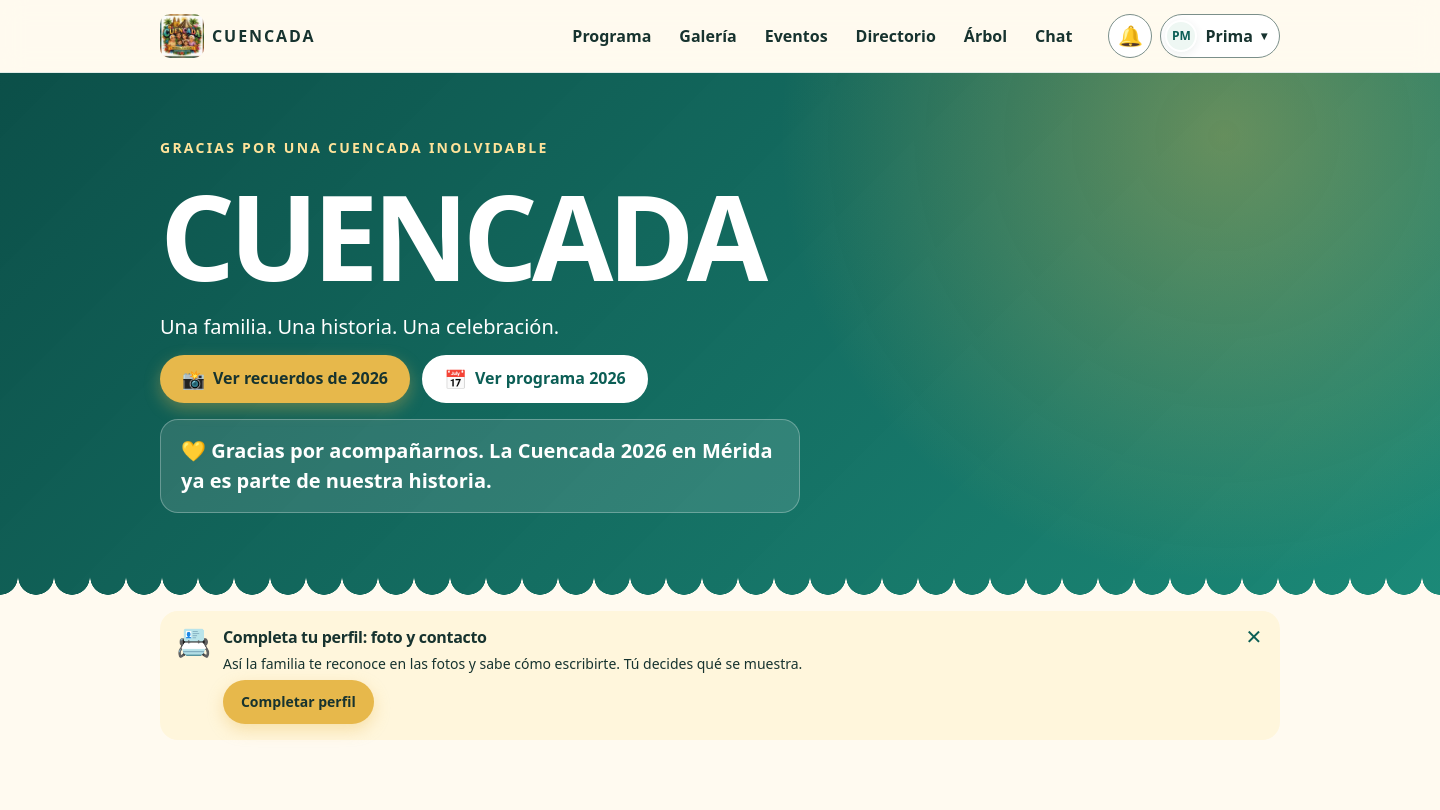
Test: AccountMenu › closes on Escape and gives focus back to the button
Click the button with aria-label "Mi cuenta". click: (1220, 36)
box: [1160,14,1280,58]
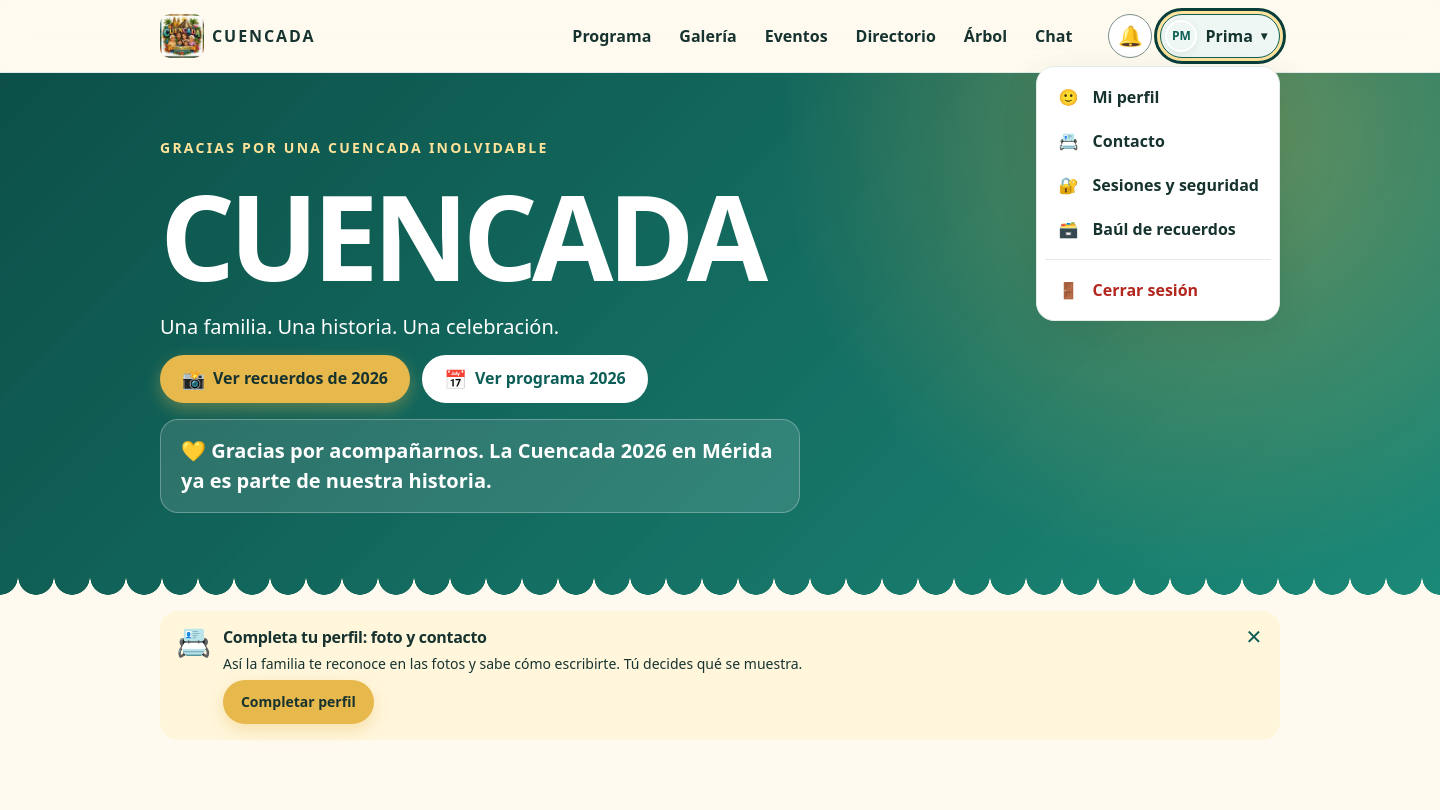
Press Tab
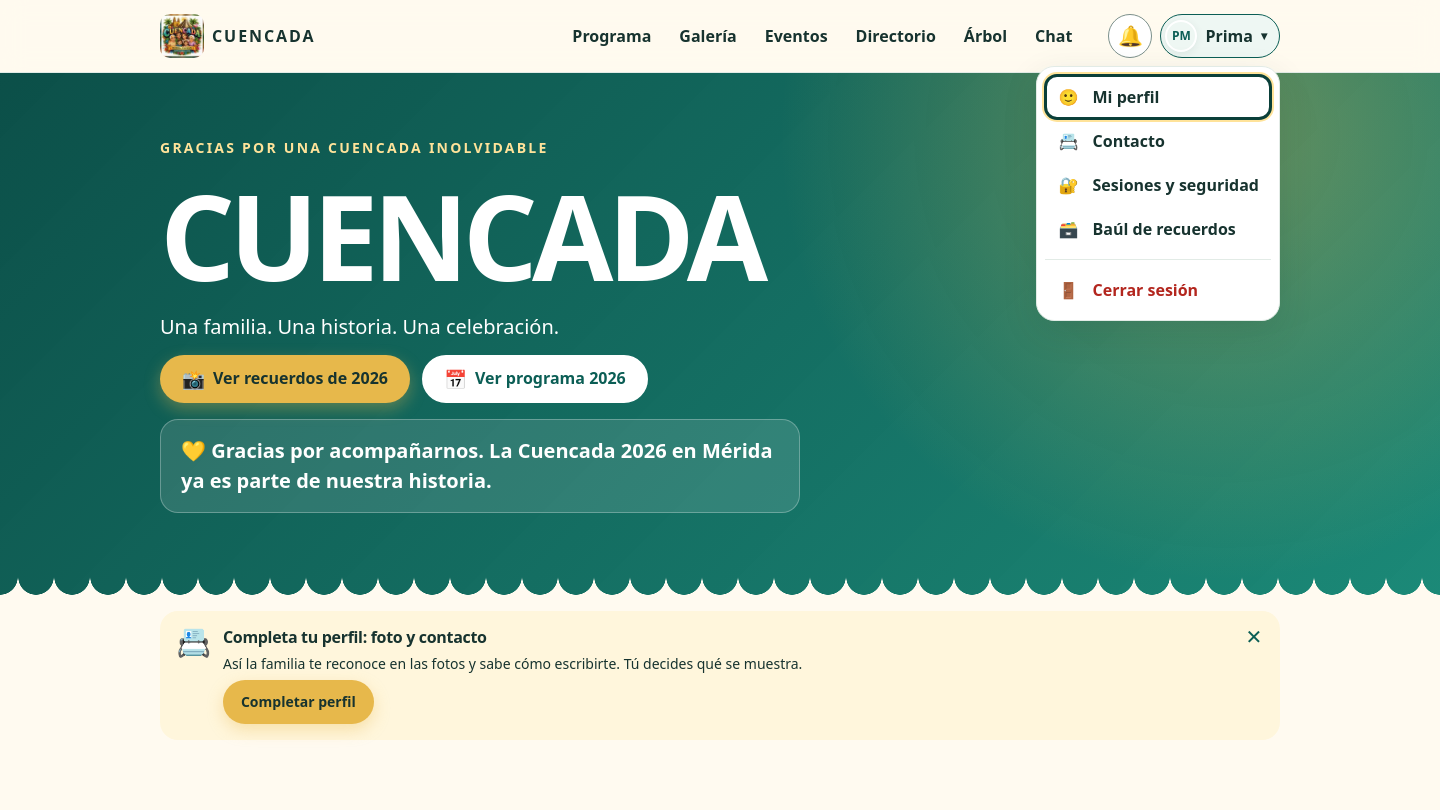
Press Escape
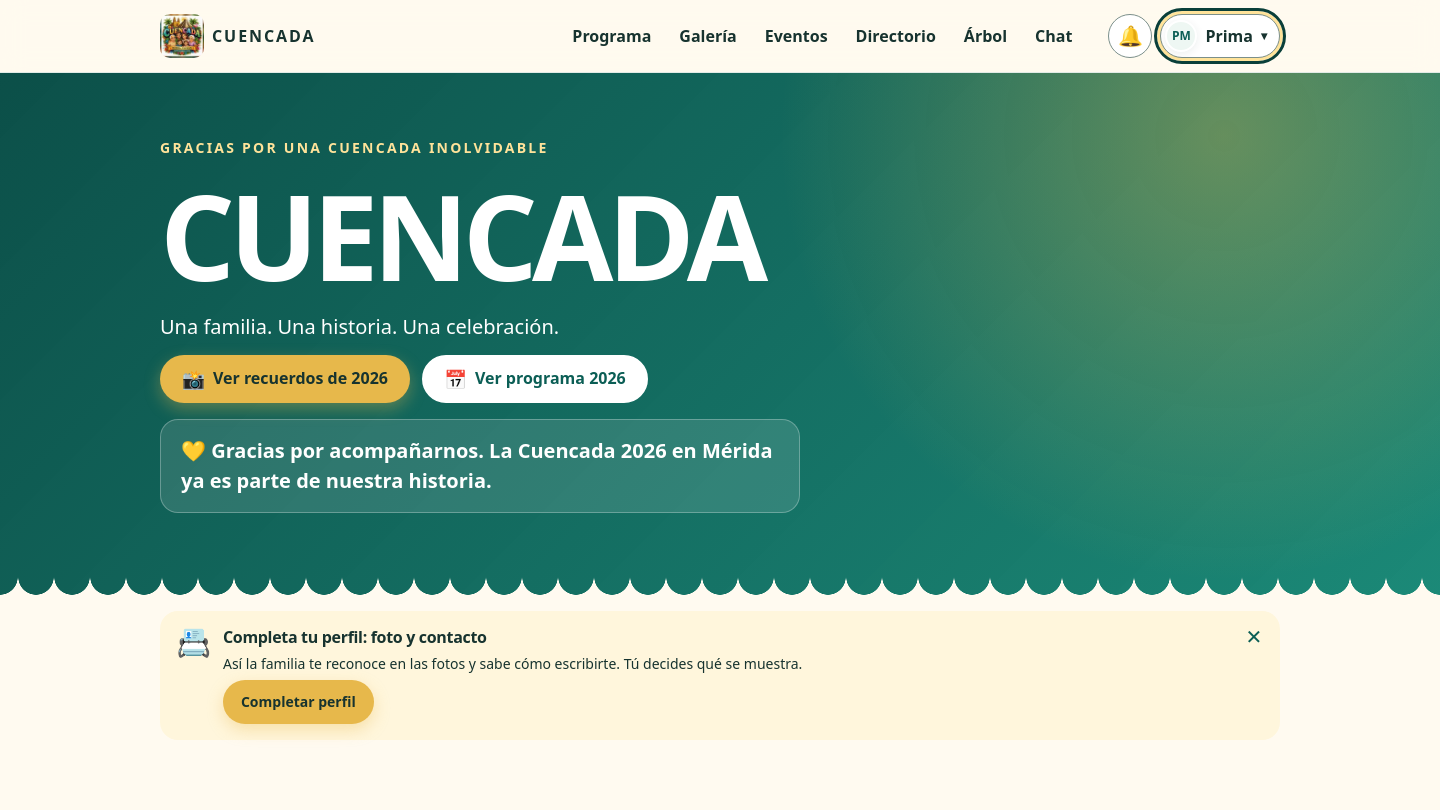
Result: the button with aria-label "Mi cuenta" is collapsed at [1160,14,1280,58]
